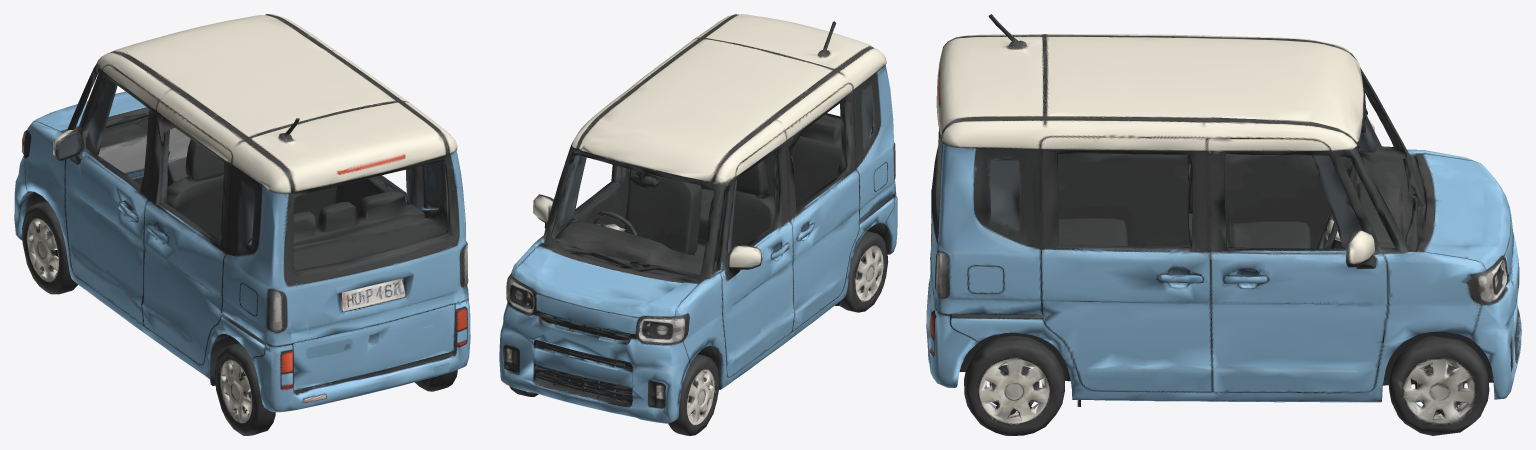
Rendered from kei_v2.glb.
3 renders of one model, left to right at view 1: azimuth 30°, elevation 25°; view 2: azimuth 150°, elevation 25°; view 3: azimuth 270°, elevation 25°, orthographic. The views are drawn at different scales.
Visible parts, largest first — view 1: body, wheel_RL, wheel_FL, wheel_RR; view 2: body, wheel_FL, wheel_RL; view 3: body, wheel_FR, wheel_RR.
Boxes of the visible parts, left/top/right/bottom form: body: left=14, top=14, right=470, bottom=412; wheel_RL: left=208, top=343, right=275, bottom=435; wheel_FL: left=18, top=197, right=77, bottom=294; wheel_RR: left=415, top=370, right=457, bottom=391; body: left=499, top=14, right=897, bottom=423; wheel_FL: left=668, top=354, right=719, bottom=435; wheel_RL: left=839, top=231, right=888, bottom=312; body: left=926, top=14, right=1521, bottom=406; wheel_FR: left=1388, top=333, right=1494, bottom=435; wheel_RR: left=964, top=335, right=1064, bottom=435.
Bounding box in the file's own units: 1.88 × 2.16 × 3.4.
Materials: 1 (1 with a texture image).
